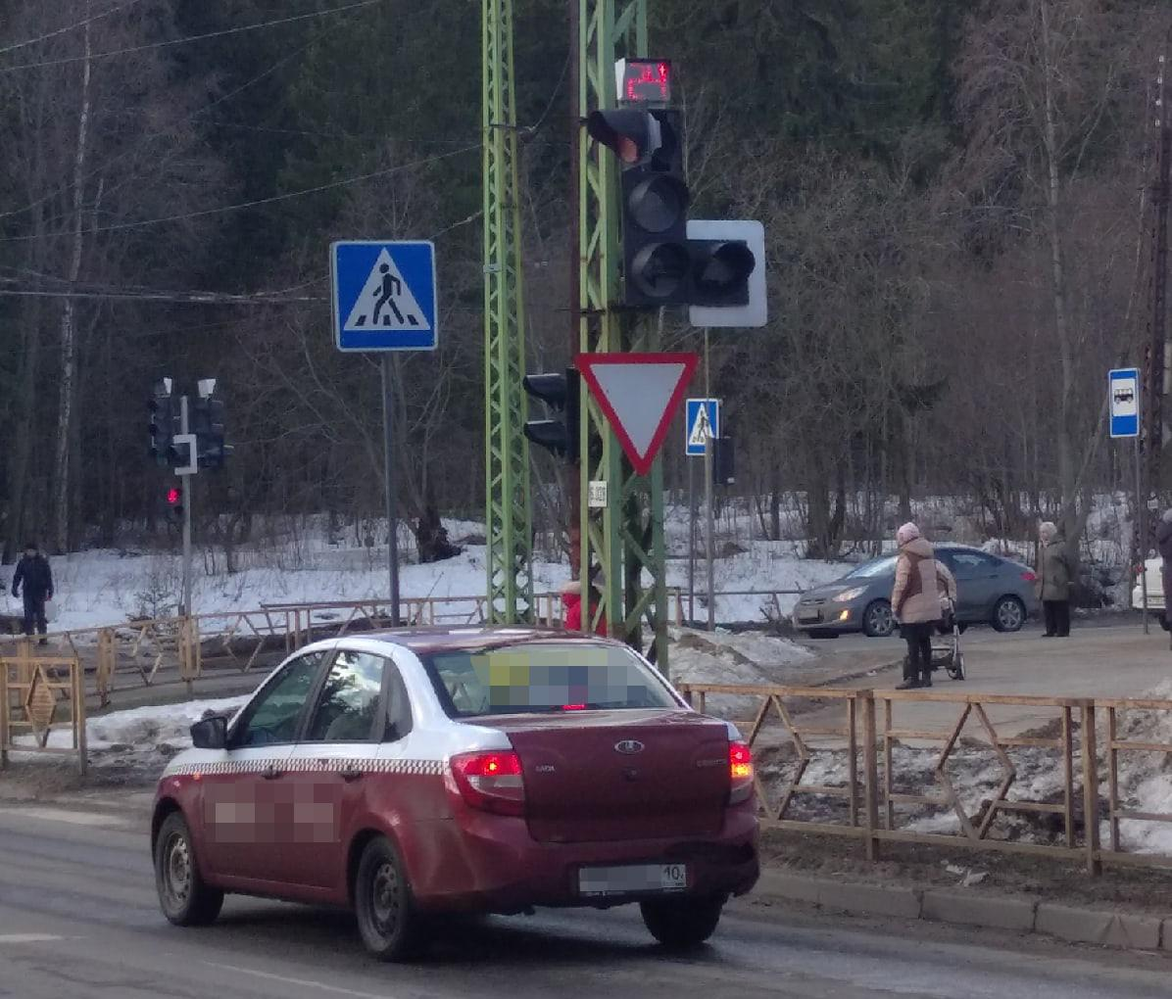off traffic light: (588, 105, 767, 325), (522, 368, 579, 462), (146, 392, 189, 471)
road_sign: (575, 352, 698, 476), (332, 240, 437, 352), (1108, 368, 1140, 437), (684, 398, 721, 455)
traffic light: (164, 481, 187, 527)
